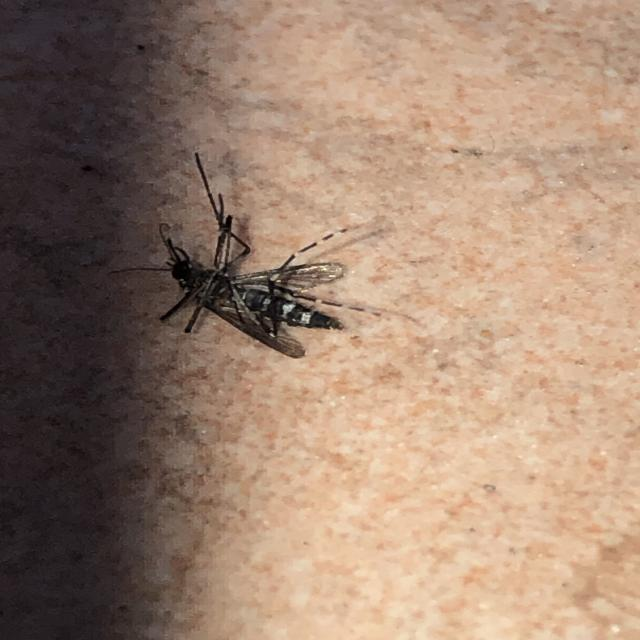albopictus: (97, 145, 411, 362)
